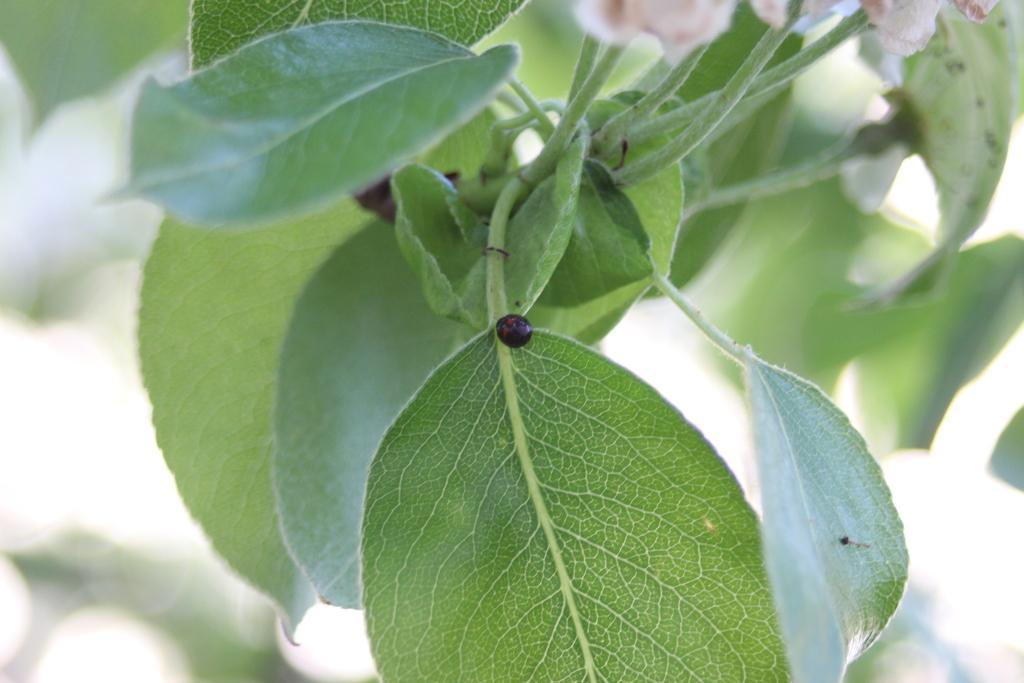ladybug: (491, 309, 539, 355)
